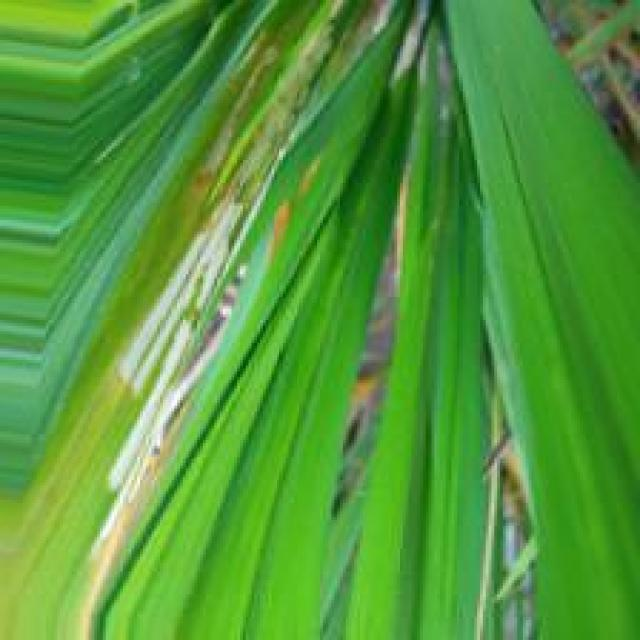Rice_Hispa: (100, 186, 235, 559)
